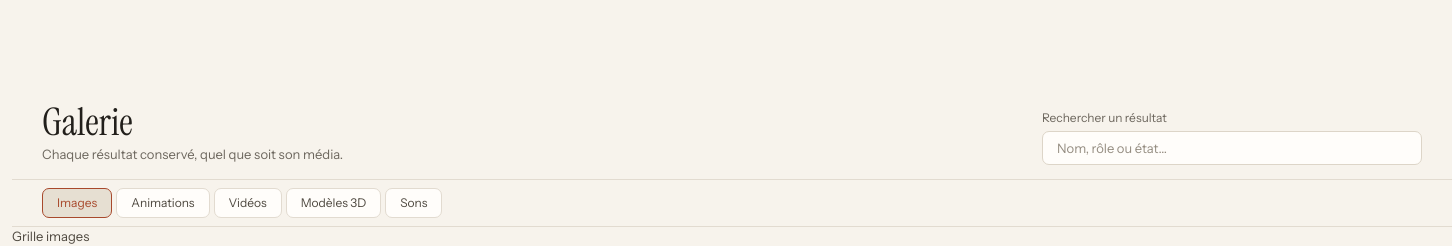
Scenario: une erreur de catalogue ne se présente pas comme une galerie vide et peut être relancée
This screenshot has width=1452, height=246.
(page scrolled)
Click the button "Sons" at (414, 202), box [385,188,442,218]
(page scrolled)
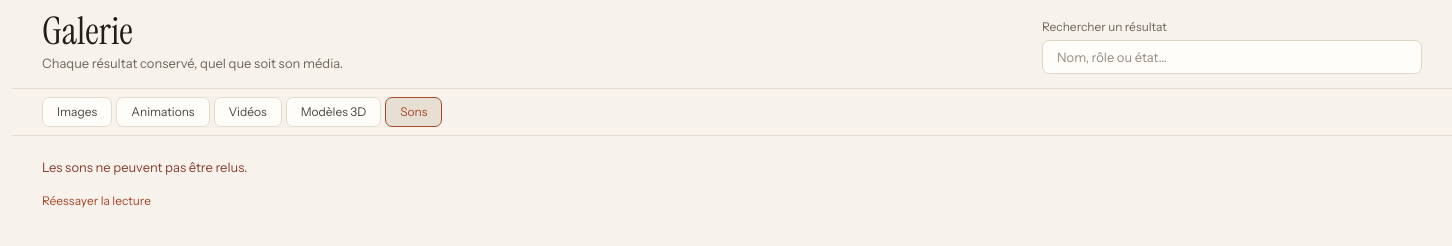
Expected: the text "Aucun résultat pour ces filtres." is not shown
Expected: the text "Les sons ne peuvent pas être relus." is shown, [42,158,247,174]
Click the button "Réessayer la lecture" at (96, 201), box [42,192,151,210]
(page scrolled)
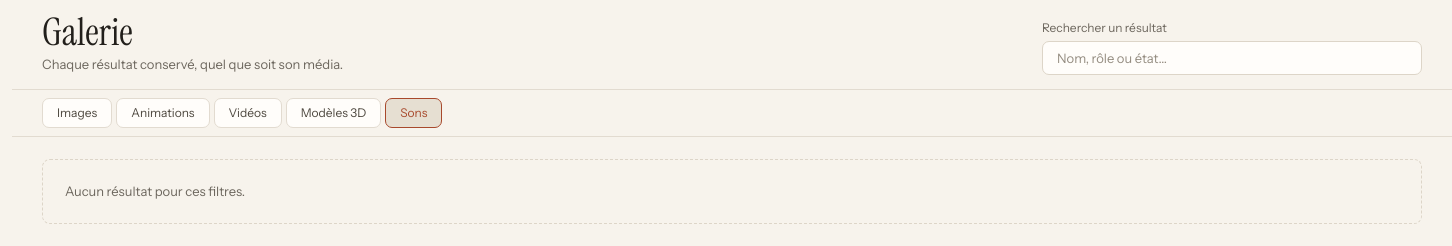
Expected: the text "Aucun résultat pour ces filtres." is shown, [65,182,245,198]
Expected: the message "Les sons ne peuvent pas être relus." is gone
